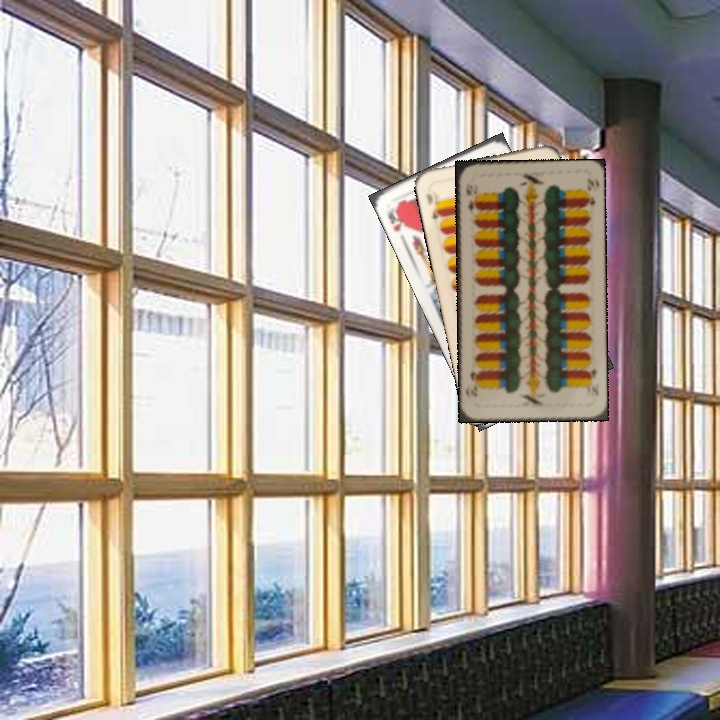E10: (422, 189, 444, 224), (583, 365, 601, 398), (462, 184, 479, 217)
HK: (384, 202, 408, 234)
